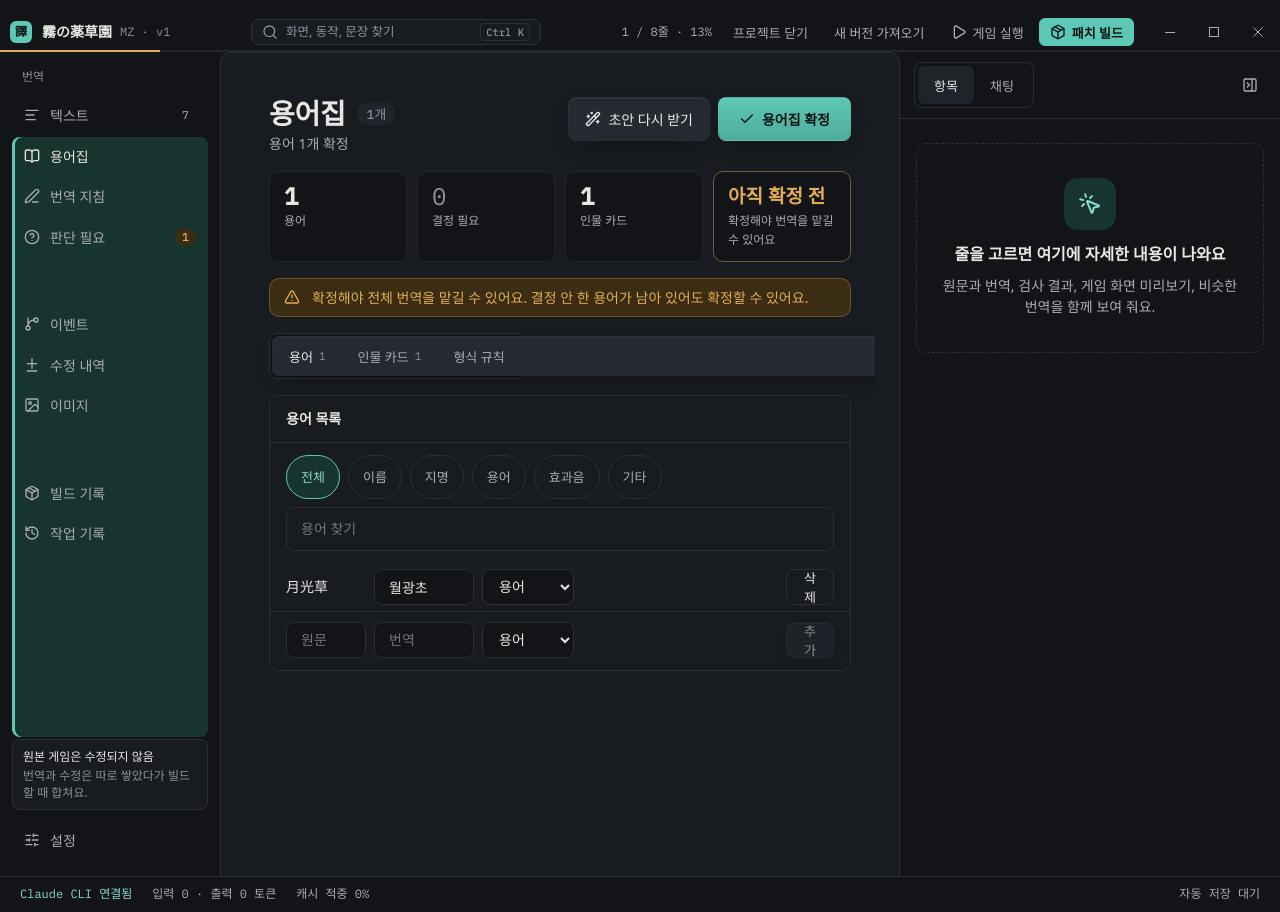
Test: 용어집은 용어 / 인물 카드 / 형식 규칙을 한 번에 하나씩, 기본은 용어
expect the text "霧の薬草園" is shown: met, box [42,21,112,43]
expect the heading "용어집" is shown: met, box [269,97,346,129]
What coordinates should you click on to do the following:
click the button "인물 카드 1"
I would click on:
 (389, 356)
Its box is [342,337,437,375].
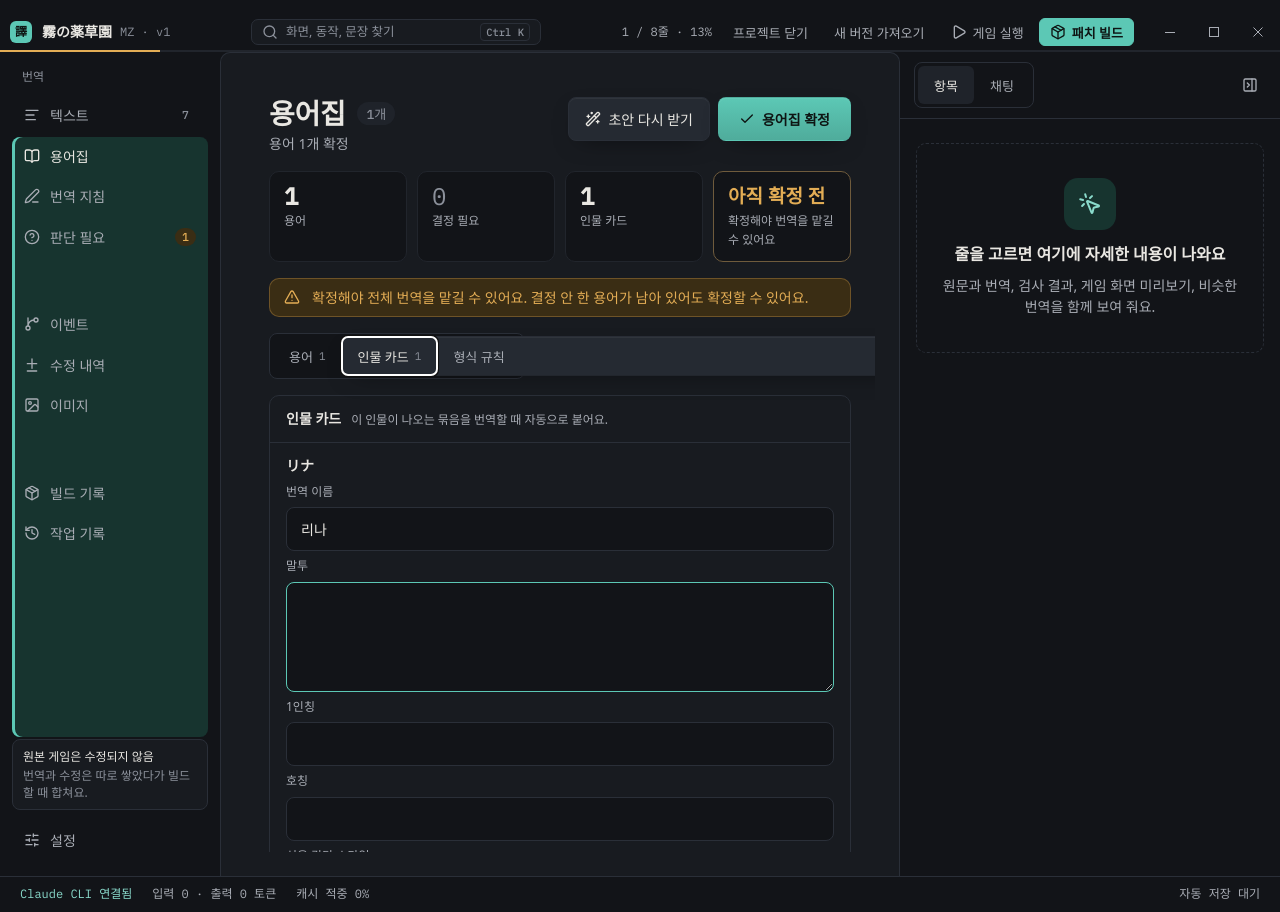
expect the text box named "リナ 말투" is shown: met, box [286,582,834,692]
expect no elements with test id "term-row" are shown: met
What coordinates should you click on to do the following:
click the button "형식 규칙"
I would click on:
 (479, 356)
Its box is [437,337,521,375].
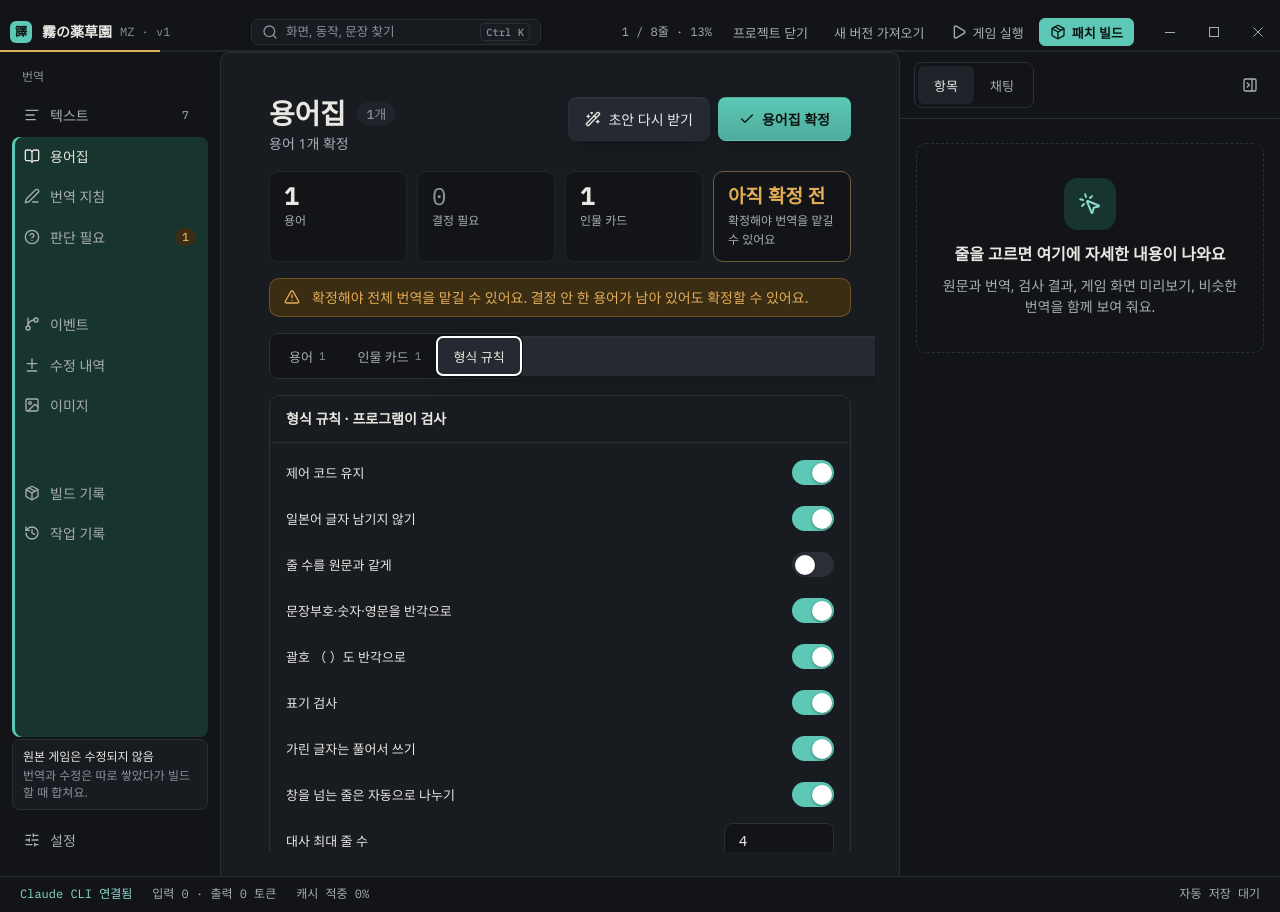
expect the switch labelled "제어 코드 유지" is shown: met, box [792,460,834,486]
